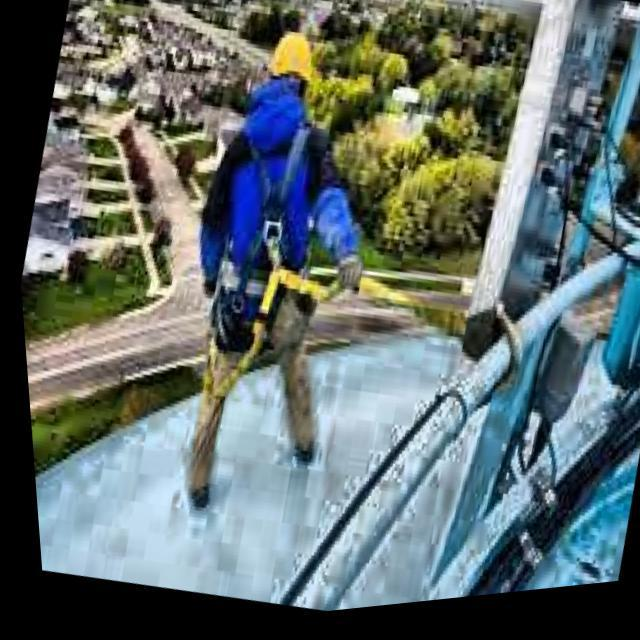belt: (162, 95, 396, 441)
